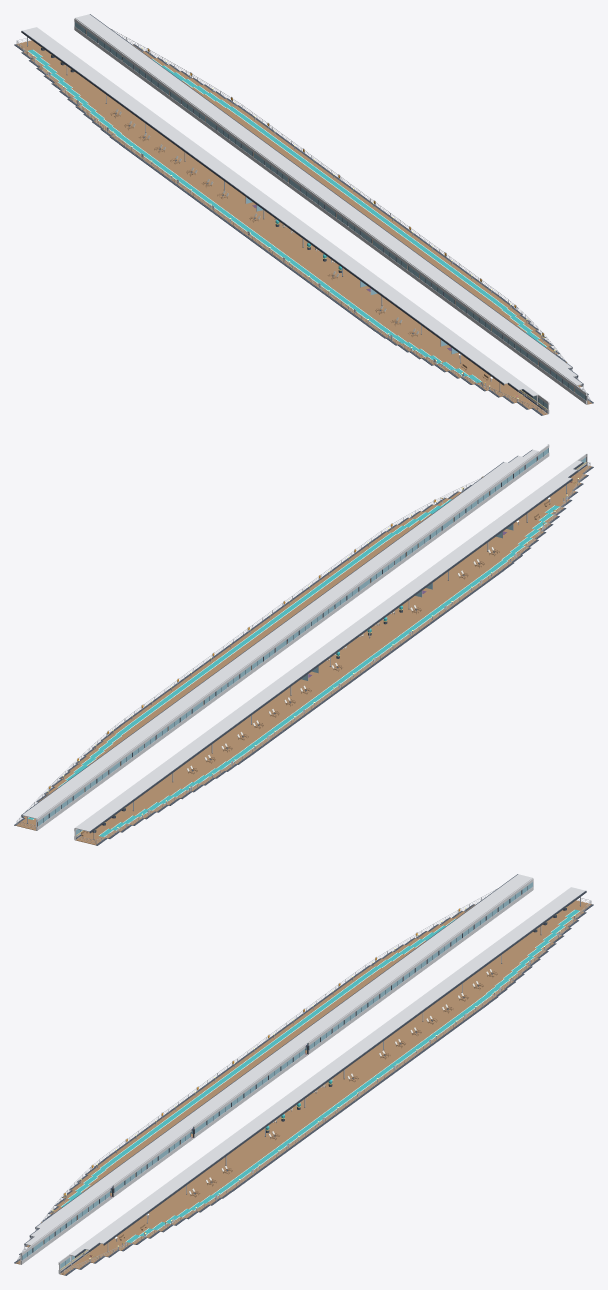
The model's file is promenade.glb.
3 renders of one model, top to bottom at view 1: azimuth 30°, elevation 25°; view 2: azimuth 150°, elevation 25°; view 3: azimuth 330°, elevation 25°, orthographic.
Parts seen in each view (by area): view 1: CM_BULKHEAD, CM_WOOD, CM_TRIM, CM_TEAL, CM_STEEL, CM_GLASS, CM_NEON_CYAN; view 2: CM_BULKHEAD, CM_WOOD, CM_TRIM, CM_TEAL, CM_STEEL, CM_GLASS, CM_NEON_CYAN; view 3: CM_BULKHEAD, CM_WOOD, CM_TRIM, CM_TEAL, CM_STEEL, CM_GLASS, CM_NEON_CYAN.
Boxes of the visible parts, box(x1,y1,x2,y2) form: CM_BULKHEAD: box(22, 14, 587, 413); CM_WOOD: box(16, 30, 591, 415); CM_TRIM: box(14, 14, 593, 415); CM_TEAL: box(28, 49, 546, 382); CM_STEEL: box(16, 28, 590, 414); CM_GLASS: box(75, 22, 585, 408); CM_NEON_CYAN: box(28, 50, 546, 382); CM_BULKHEAD: box(22, 444, 587, 839); CM_WOOD: box(16, 459, 591, 845); CM_TRIM: box(14, 448, 593, 845); CM_TEAL: box(28, 499, 559, 836); CM_STEEL: box(16, 461, 590, 844); CM_GLASS: box(38, 448, 585, 834); CM_NEON_CYAN: box(28, 499, 559, 836); CM_BULKHEAD: box(20, 874, 585, 1273); CM_WOOD: box(16, 900, 591, 1275); CM_TRIM: box(14, 874, 593, 1275); CM_TEAL: box(61, 909, 579, 1242); CM_STEEL: box(17, 888, 591, 1274); CM_GLASS: box(22, 882, 532, 1268); CM_NEON_CYAN: box(61, 910, 579, 1242).
Size of the model in its own units: 38 by 3.48 by 260.
